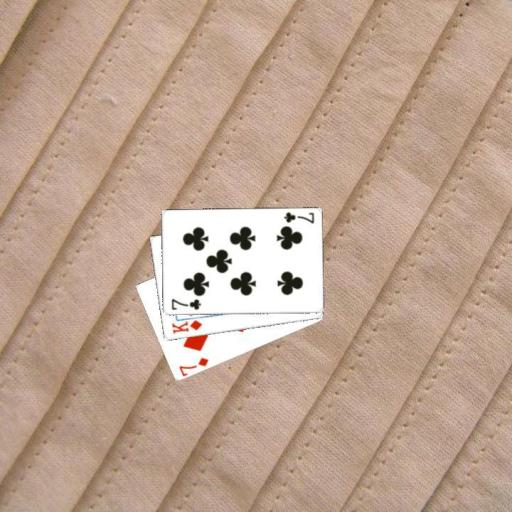7C: (281, 209, 315, 225), (168, 296, 202, 311)
7D: (176, 354, 210, 377)
KD: (169, 317, 204, 335)
